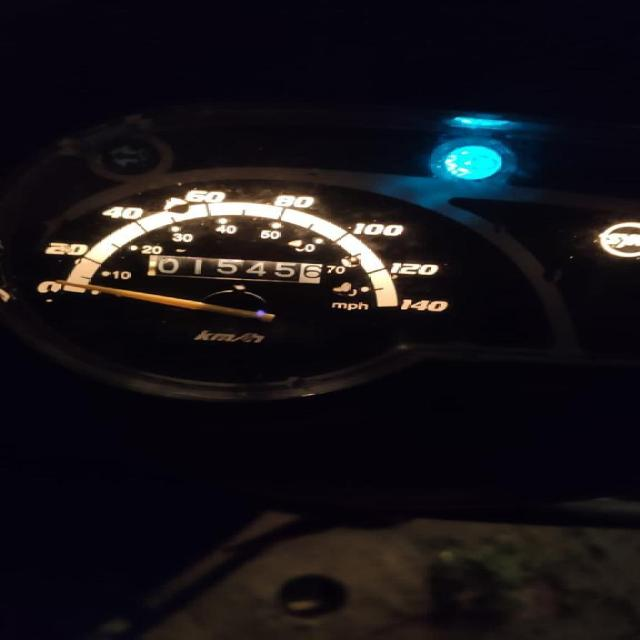odometer: (144, 254, 324, 285)
